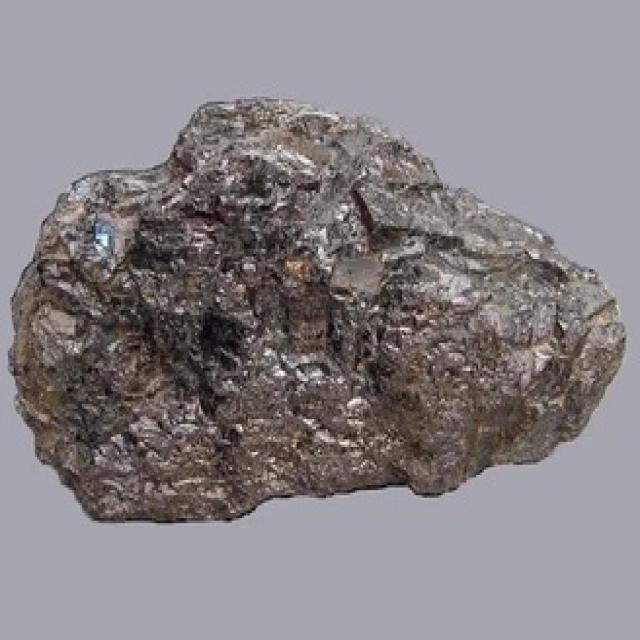Sedimentary: (2, 89, 624, 526)
